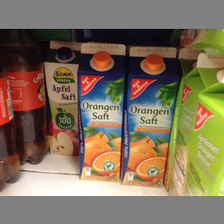juice: (119, 46, 181, 186), (78, 42, 125, 182), (2, 30, 48, 163), (44, 39, 80, 156)
